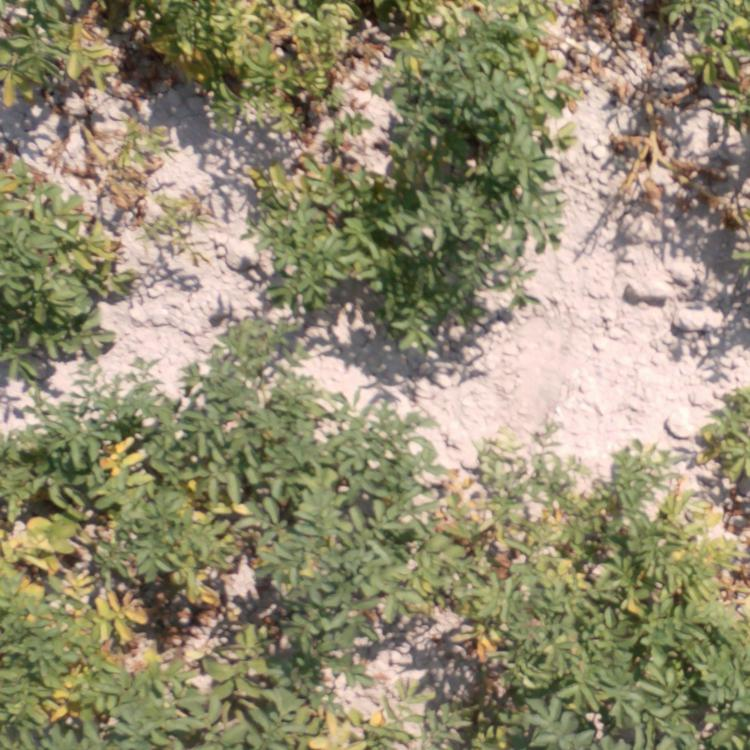healthy: (151, 340, 381, 455), (256, 208, 539, 296), (391, 99, 553, 208), (337, 469, 404, 632)
stressed: (1, 390, 139, 736), (513, 446, 662, 750), (1, 117, 156, 373), (145, 482, 327, 653), (413, 455, 508, 750), (149, 1, 372, 117), (145, 654, 407, 750), (660, 482, 748, 750), (401, 1, 572, 91), (1, 1, 135, 103), (237, 115, 380, 203), (626, 1, 744, 86), (620, 100, 669, 190), (697, 392, 750, 474)
